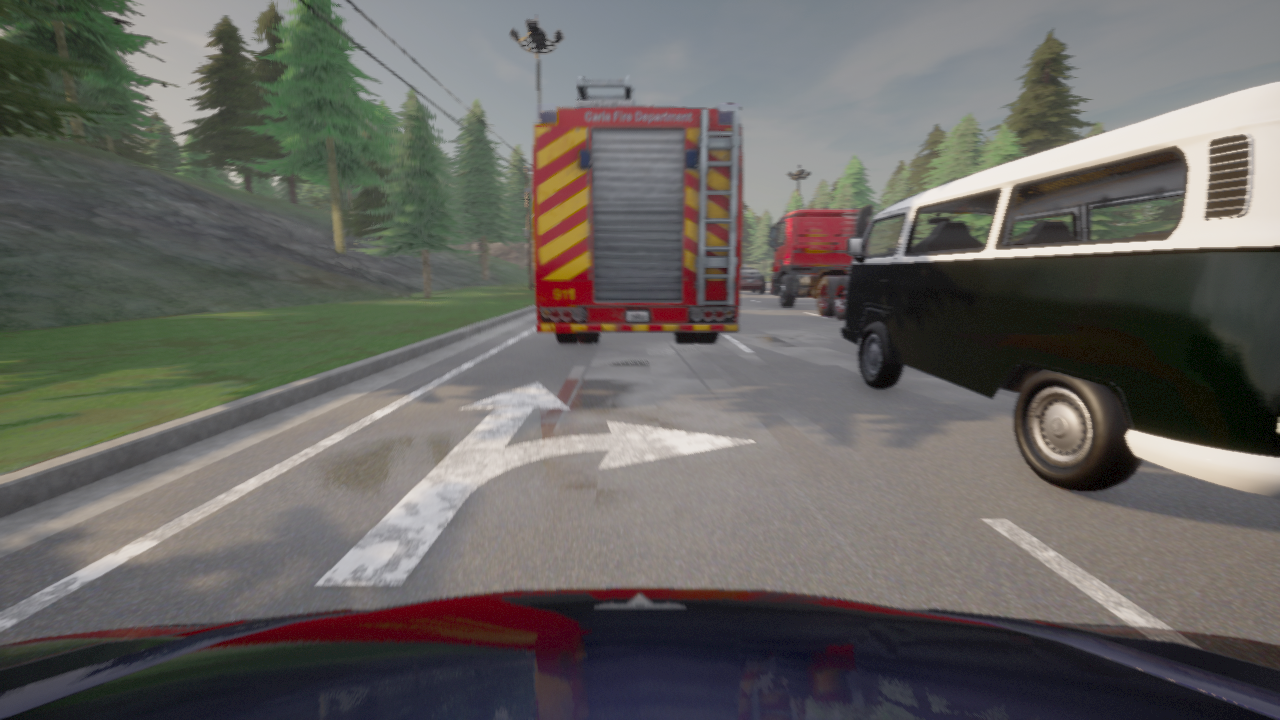cyclist: (841, 81, 1279, 498), (0, 588, 1279, 719), (533, 75, 742, 343), (769, 205, 872, 320), (740, 269, 765, 293)
